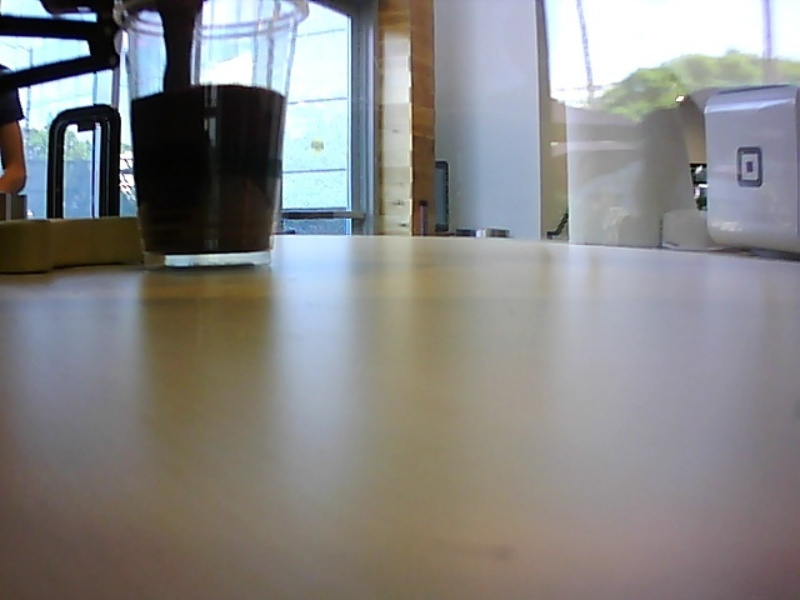cup: (108, 1, 311, 272)
limit: (129, 79, 293, 109)
